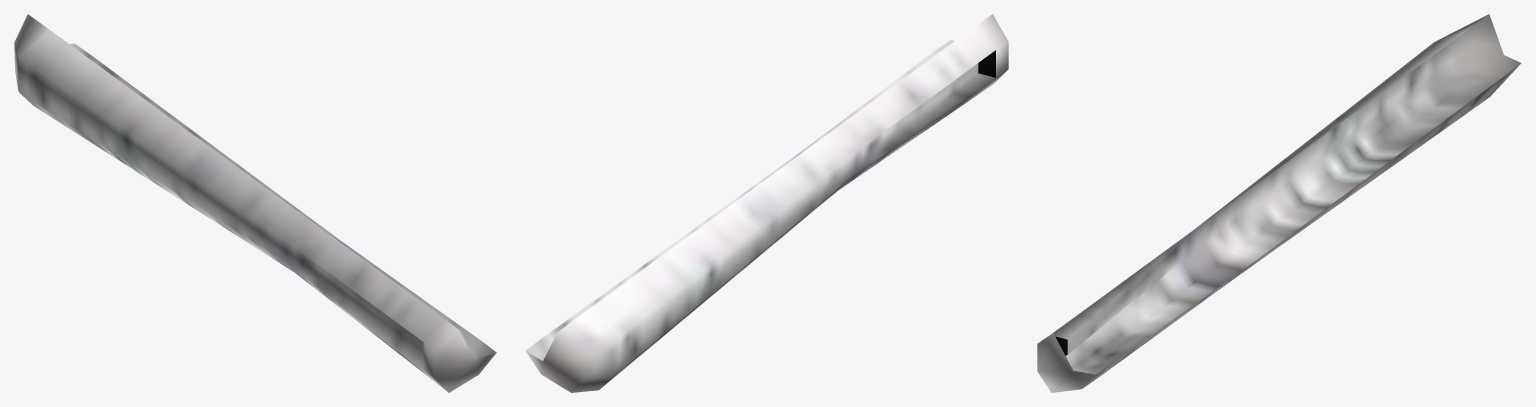
The picture shows the model from 3 angles, left to right: view 1: azimuth 30°, elevation 25°; view 2: azimuth 150°, elevation 25°; view 3: azimuth 330°, elevation 25°; orthographic projection.
Parts seen in each view (by area): view 1: wg_l_a_st; view 2: wg_l_a_st; view 3: wg_l_a_st.
Boxes of the visible parts, x1,y1,x2,y2 form: wg_l_a_st: (14, 14, 496, 392); wg_l_a_st: (525, 14, 1008, 392); wg_l_a_st: (1037, 14, 1521, 392).
Bounding box in the file's own units: 0.2238 × 0.2098 × 2.34.
2 materials, 2 textured.
